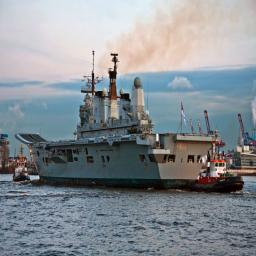Portanaves: (15, 49, 216, 188)
